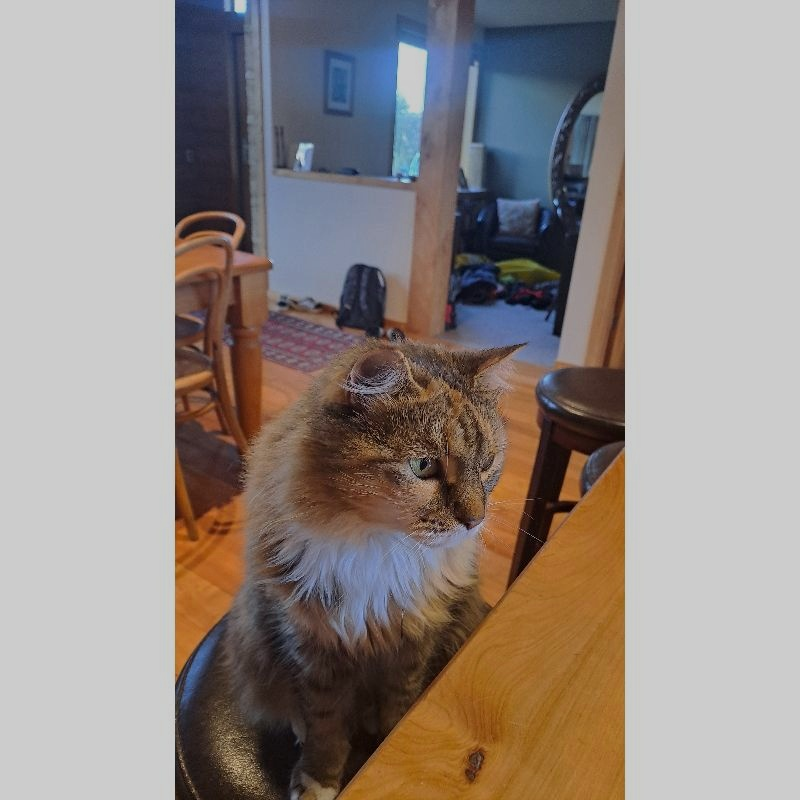yellow: (222, 338, 530, 800)
